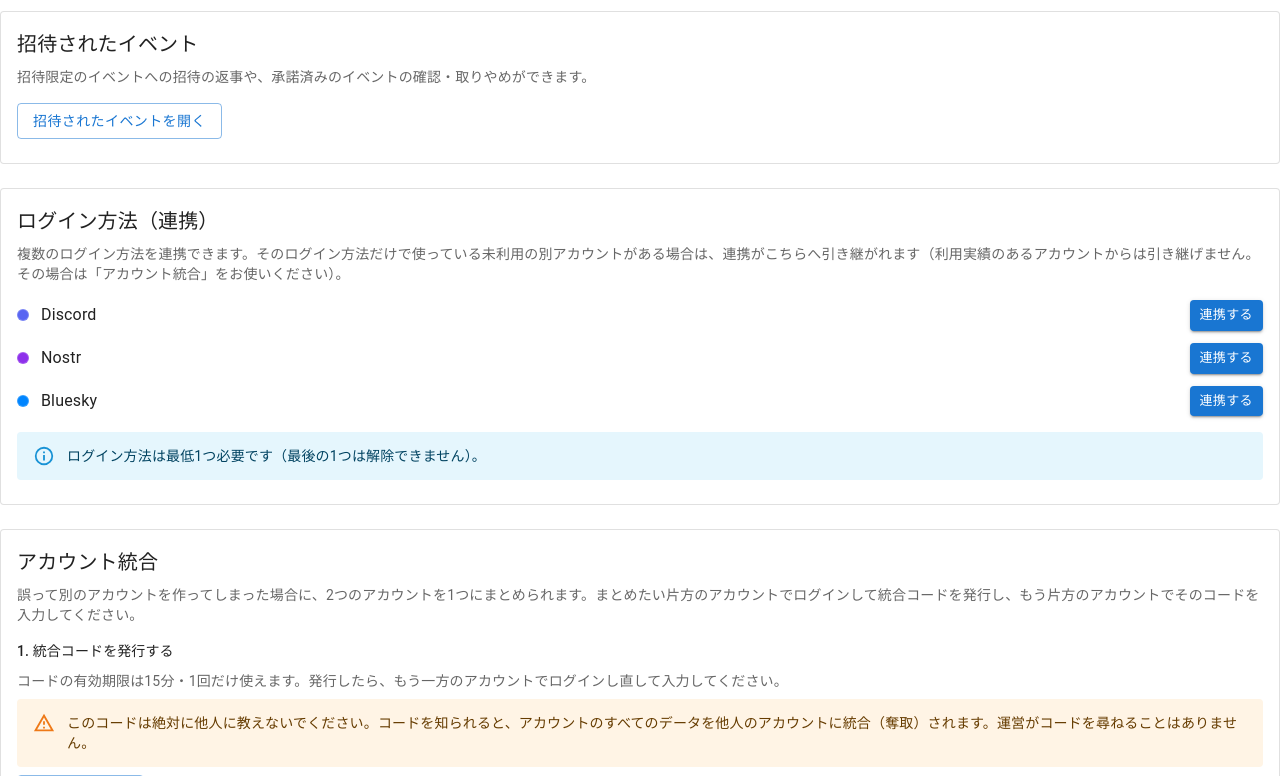
Scenario: アカウント設定の Bluesky (#381) › 連携の一覧に並び、押すとハンドル入力欄が出る
The width and height of the screenshot is (1280, 776).
(page scrolled)
Expected: the text "Bluesky" is shown, [41,391,97,410]
Expected: the field labelled "Bluesky のハンドル" is not shown
「連携する」は discord と bluesky の2つ。bluesky は最後の行
Click the button "連携する" in the row of "Bluesky" at (1226, 401), box [1190,386,1263,416]
(page scrolled)
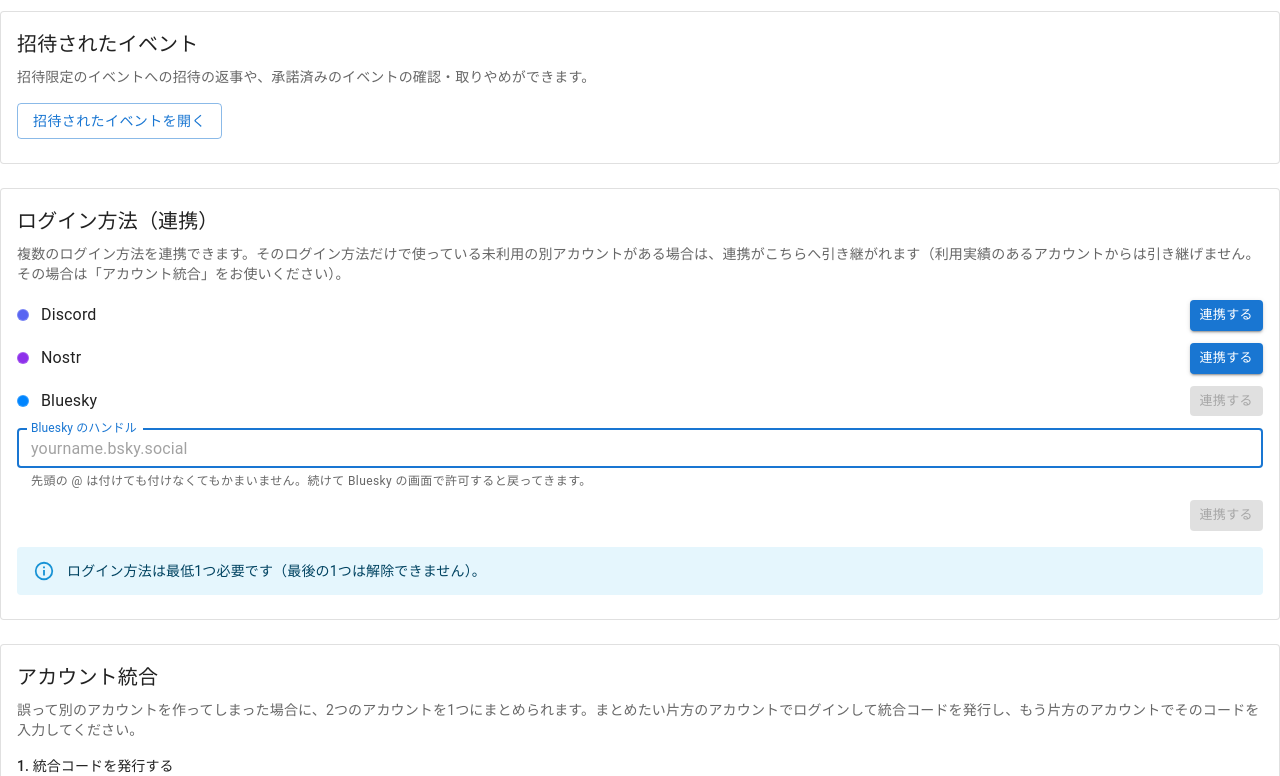
Expected: the field labelled "Bluesky のハンドル" is shown, [17,428,1263,468]
